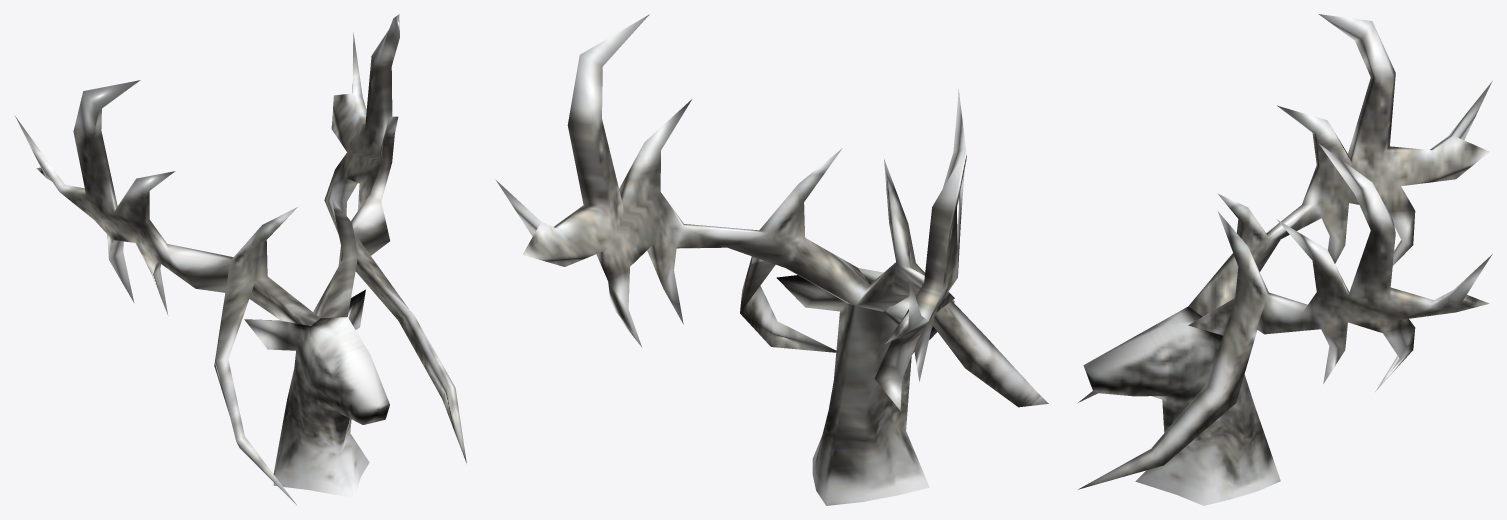
3 views of the same model, side by side, from view 1: azimuth 30°, elevation 25°; view 2: azimuth 150°, elevation 25°; view 3: azimuth 270°, elevation 25° (orthographic). The views are drawn at different scales.
Visible parts, largest first — view 1: a03; view 2: a03; view 3: a03.
Boxes of the visible parts, x1,y1,x2,y2 form: a03: (15,14,466,504); a03: (495,14,1048,505); a03: (1078,14,1492,505).
Bounding box in the file's own units: 453 × 492 × 460.
